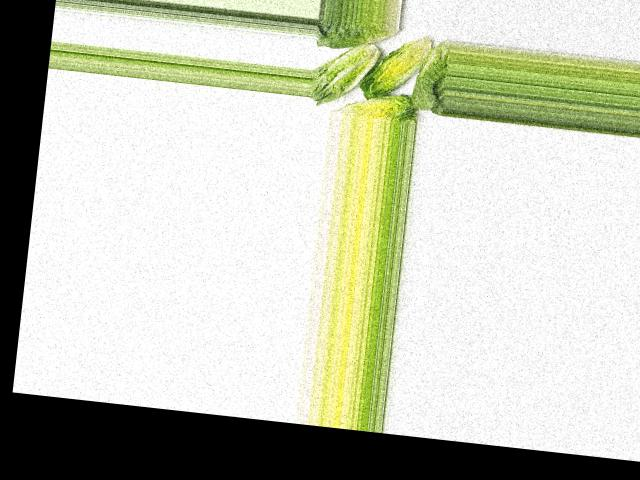lettuce: (407, 39, 451, 116)
